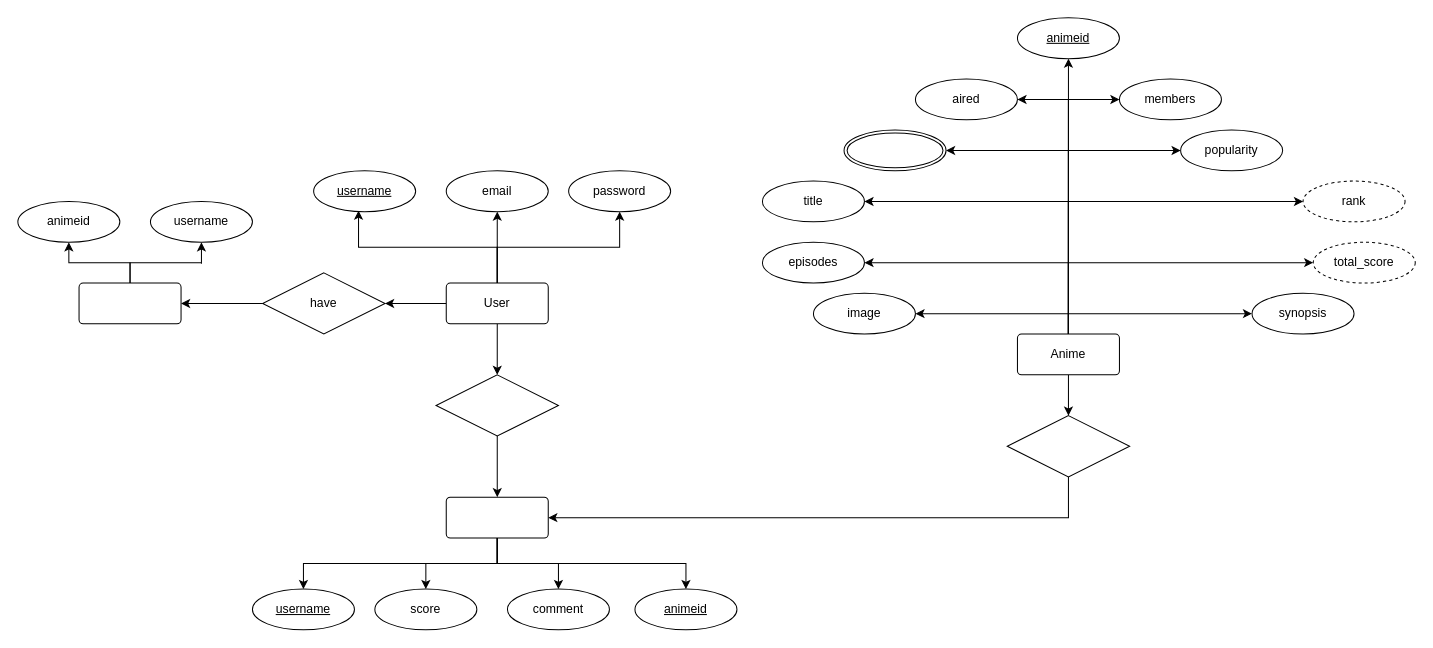
Some shapes in this 1433 by 648 pixel diagram are drawn without their labels. The box of each missing label's shape, as (x1, y1, x2, y2) in pixels:
Favorite: (78, 282, 181, 324)
genre: (843, 129, 946, 171)
get: (1006, 415, 1130, 477)
give: (435, 374, 558, 436)
Review: (445, 496, 548, 538)
